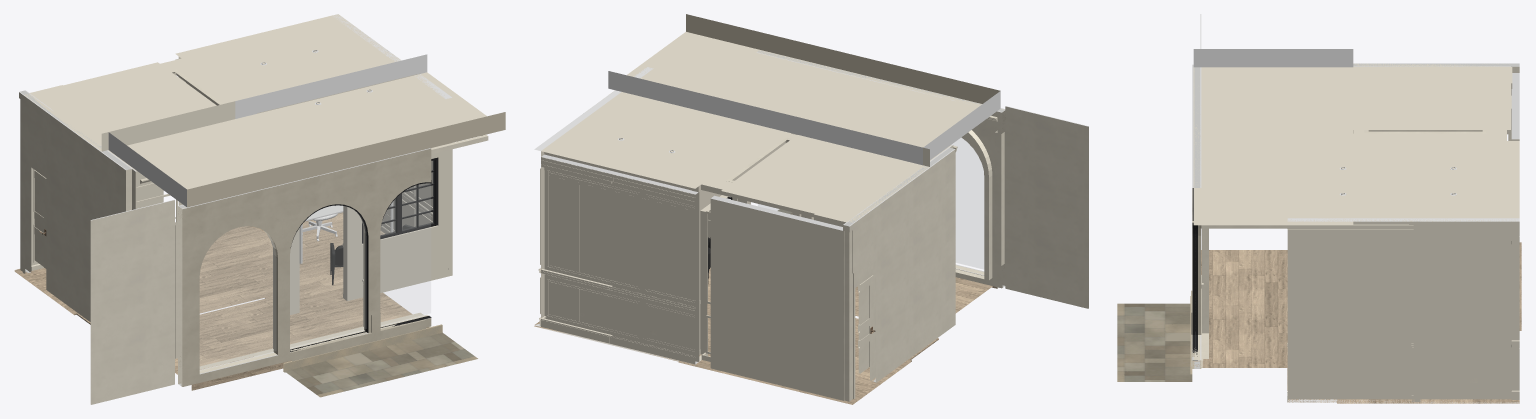
The model's file is office-east-88660812c7be.glb.
The picture shows the model from 3 angles, left to right: view 1: azimuth 30°, elevation 25°; view 2: azimuth 150°, elevation 25°; view 3: azimuth 270°, elevation 25°; orthographic projection. The views are drawn at different scales.
Visible parts, largest first — view 1: office-east-look-dbd60ee5c3733ed6, office-east-look-c9e78b9ec1bb39cd, office-east-look-d5a4a1b5d3594c04, office-east-look-6a051330000fbca1, office-east-look-2575515a05775d9e, office-east-2575515a05775d9e, office-east-look-38561c12898e4d43, office-east-look-c02a36d0521470a9, office-east-look-c374268555806af8, office-east-7dc307bfa7ee071d, office-east-look-5cbcc744e6f960f3, office-east-look-982408871810a50e (+17 smaller); view 2: office-east-look-dbd60ee5c3733ed6, office-east-look-19647d6da46c2b80, office-east-19647d6da46c2b80, office-east-look-6a051330000fbca1, office-east-look-d5a4a1b5d3594c04, office-east-2575515a05775d9e, office-east-look-2575515a05775d9e, office-east-look-38561c12898e4d43, office-east-7b11e78295c2e11d, office-east-look-c9e78b9ec1bb39cd, office-east-look-0d8abb8bf9b53894, office-east-dbd60ee5c3733ed6 (+17 smaller); view 3: office-east-6a1144f4e43410bb, office-east-look-dbd60ee5c3733ed6, office-east-2575515a05775d9e, office-east-look-2575515a05775d9e, office-east-look-c374268555806af8, office-east-look-982408871810a50e, office-east-dbd60ee5c3733ed6, office-east-7dc307bfa7ee071d, office-east-look-c9e78b9ec1bb39cd, office-east-look-0d8abb8bf9b53894, office-east-19647d6da46c2b80, office-east-07b6babc03834d5e (+17 smaller).
Boxes of the visible parts, box(x1,y1,x2,y2) form: office-east-look-dbd60ee5c3733ed6: box(108, 54, 505, 207); office-east-look-c9e78b9ec1bb39cd: box(178, 148, 431, 386); office-east-look-d5a4a1b5d3594c04: box(90, 199, 174, 404); office-east-look-6a051330000fbca1: box(19, 90, 136, 321); office-east-look-2575515a05775d9e: box(24, 62, 235, 151); office-east-2575515a05775d9e: box(175, 14, 420, 113); office-east-look-38561c12898e4d43: box(200, 226, 276, 369); office-east-look-c02a36d0521470a9: box(290, 205, 366, 347); office-east-look-c374268555806af8: box(175, 292, 429, 390); office-east-7dc307bfa7ee071d: box(293, 97, 445, 313); office-east-look-5cbcc744e6f960f3: box(380, 183, 430, 324); office-east-look-982408871810a50e: box(283, 332, 477, 397); office-east-look-dbd60ee5c3733ed6: box(608, 14, 1000, 165); office-east-look-19647d6da46c2b80: box(710, 195, 842, 400); office-east-19647d6da46c2b80: box(541, 154, 699, 364); office-east-look-6a051330000fbca1: box(843, 144, 955, 401); office-east-look-d5a4a1b5d3594c04: box(1005, 106, 1088, 308); office-east-2575515a05775d9e: box(541, 92, 771, 188); office-east-look-2575515a05775d9e: box(721, 135, 929, 222); office-east-look-38561c12898e4d43: box(952, 138, 983, 269); office-east-7b11e78295c2e11d: box(692, 110, 808, 361); office-east-look-c9e78b9ec1bb39cd: box(756, 50, 1005, 288); office-east-look-0d8abb8bf9b53894: box(701, 129, 951, 226); office-east-dbd60ee5c3733ed6: box(615, 67, 807, 129); office-east-6a1144f4e43410bb: box(1287, 218, 1519, 402); office-east-look-dbd60ee5c3733ed6: box(1193, 49, 1353, 225); office-east-2575515a05775d9e: box(1353, 141, 1519, 221); office-east-look-2575515a05775d9e: box(1353, 63, 1510, 129); office-east-look-c374268555806af8: box(1192, 250, 1287, 367); office-east-look-982408871810a50e: box(1117, 303, 1192, 381); office-east-dbd60ee5c3733ed6: box(1287, 141, 1353, 221); office-east-7dc307bfa7ee071d: box(1287, 144, 1295, 399); office-east-look-c9e78b9ec1bb39cd: box(1192, 64, 1201, 368); office-east-look-0d8abb8bf9b53894: box(1353, 67, 1512, 140); office-east-19647d6da46c2b80: box(1511, 224, 1519, 390); office-east-07b6babc03834d5e: box(1295, 394, 1511, 399).
Size of the model in its own units: 7.25 by 3.46 by 6.07.
Materials: 23 (7 with a texture image).
